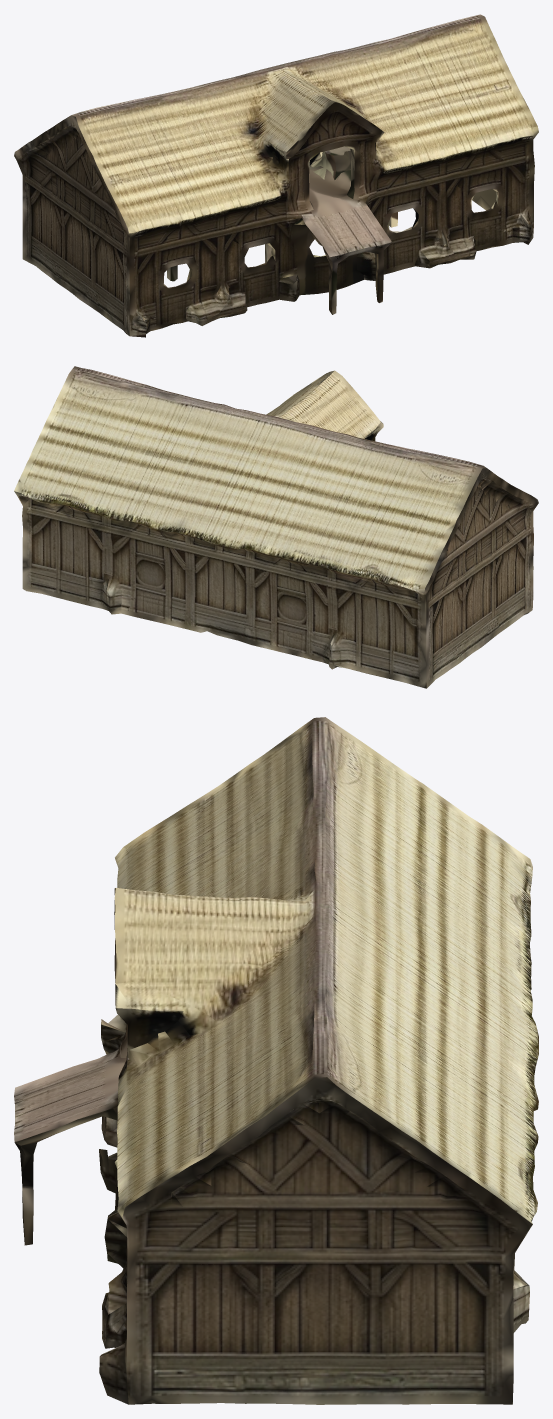
The model's file is stable_block.glb.
The picture shows the model from 3 angles, top to bottom: view 1: azimuth 30°, elevation 25°; view 2: azimuth 150°, elevation 25°; view 3: azimuth 270°, elevation 25°; orthographic projection. The views are drawn at different scales.
Visible parts, largest first — view 1: MedievalStables; view 2: MedievalStables; view 3: MedievalStables.
Boxes of the visible parts, left/top/right/bottom form: MedievalStables: left=14, top=14, right=538, bottom=337; MedievalStables: left=14, top=366, right=538, bottom=688; MedievalStables: left=14, top=717, right=538, bottom=1404.
Size of the model in its own units: 33.91 by 15 by 20.76.
Materials: 1 (1 with a texture image).
